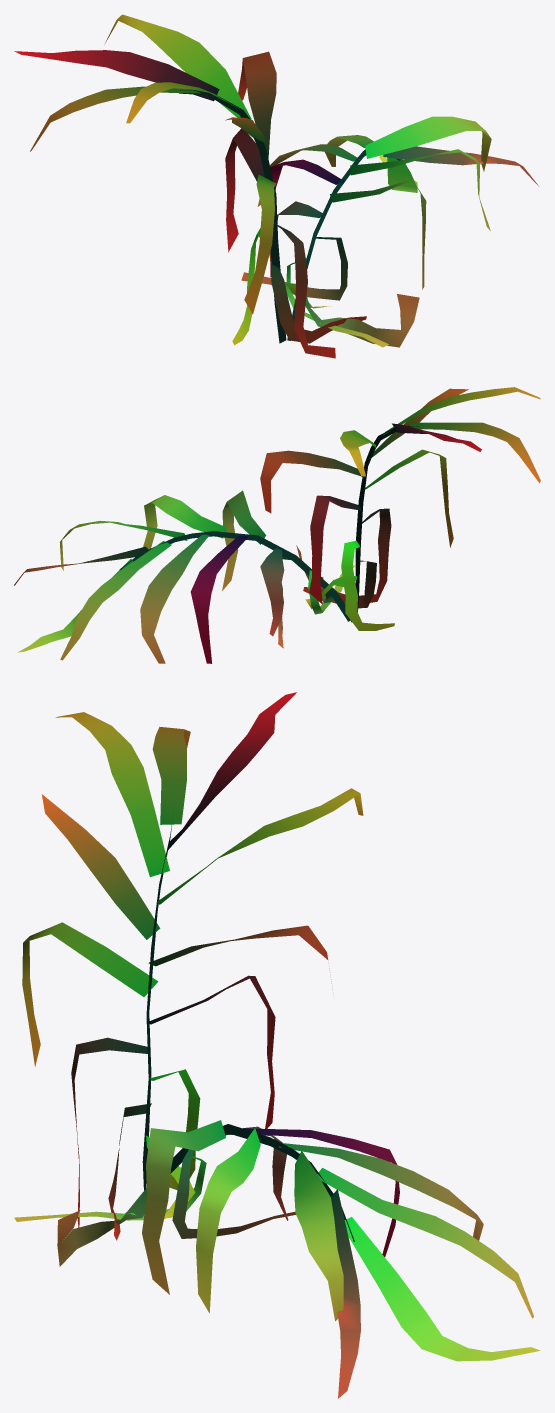
File: Ginger_Plant_sgbmM_Low_sgbmM_VarE_LOD0.fbx
The picture shows the model from 3 angles, top to bottom: view 1: azimuth 30°, elevation 25°; view 2: azimuth 150°, elevation 25°; view 3: azimuth 270°, elevation 25°; orthographic projection. The views are drawn at different scales.
Parts seen in each view (by area): view 1: _dc1b_VarE_LOD2; view 2: _dc1b_VarE_LOD2; view 3: _dc1b_VarE_LOD2.
Part boxes in pixels (box(x1,y1,x2,y2)): _dc1b_VarE_LOD2: box(14, 14, 539, 358); _dc1b_VarE_LOD2: box(14, 387, 540, 663); _dc1b_VarE_LOD2: box(14, 692, 540, 1398).
Bounding box in the file's own units: 158 × 81.3 × 97.81.
